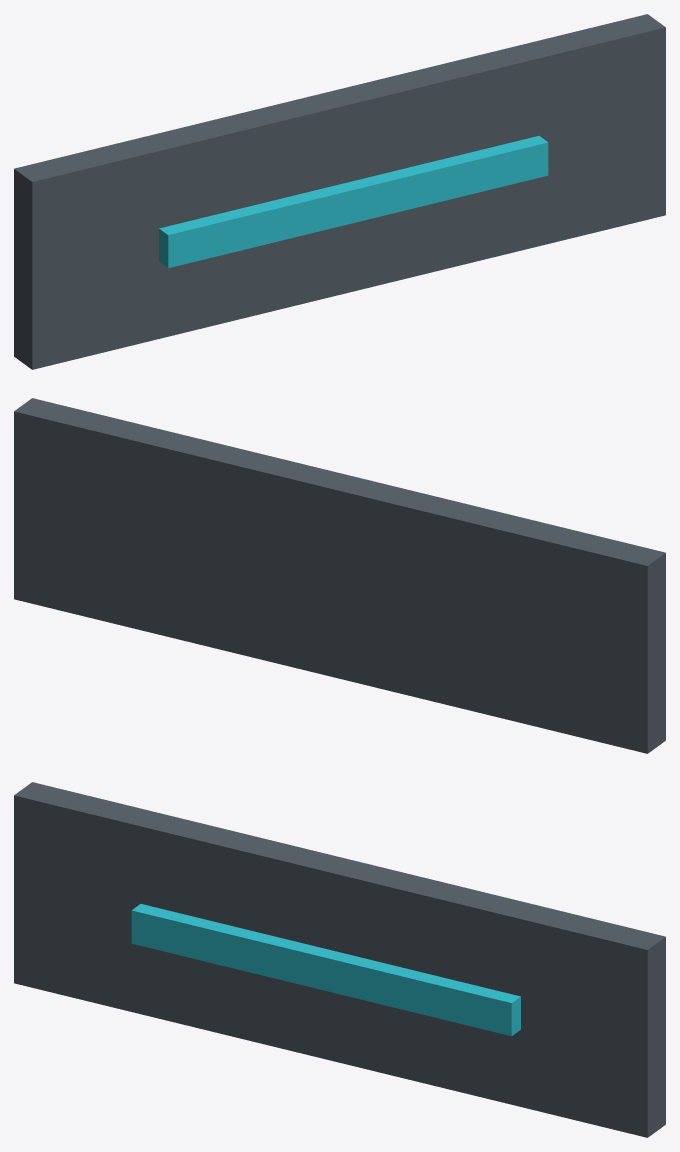
The model's file is prop.subroom_name_plate.glb.
The picture shows the model from 3 angles, top to bottom: view 1: azimuth 30°, elevation 25°; view 2: azimuth 150°, elevation 25°; view 3: azimuth 330°, elevation 25°; orthographic projection.
Visible parts, largest first — view 1: plate, plate_glow; view 2: plate; view 3: plate, plate_glow.
Boxes of the visible parts, bbox=[...] form: plate: bbox=[14, 14, 665, 369]; plate_glow: bbox=[159, 136, 548, 268]; plate: bbox=[14, 398, 665, 753]; plate: bbox=[14, 782, 665, 1137]; plate_glow: bbox=[131, 904, 520, 1036].
Size of the model in its own units: 1.2 by 0.34 by 0.09.
